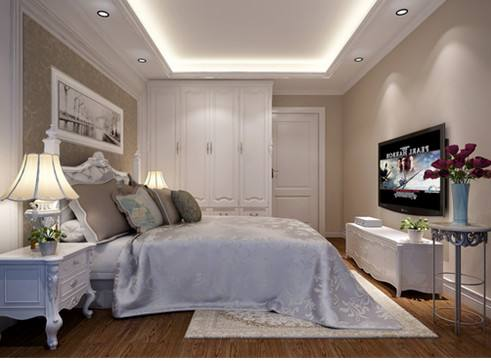床: (76, 217, 358, 322)
枕头: (121, 175, 202, 229)
灯: (5, 145, 70, 261), (143, 171, 171, 190), (395, 7, 414, 17), (94, 11, 110, 20), (135, 57, 147, 65), (355, 56, 366, 64)
